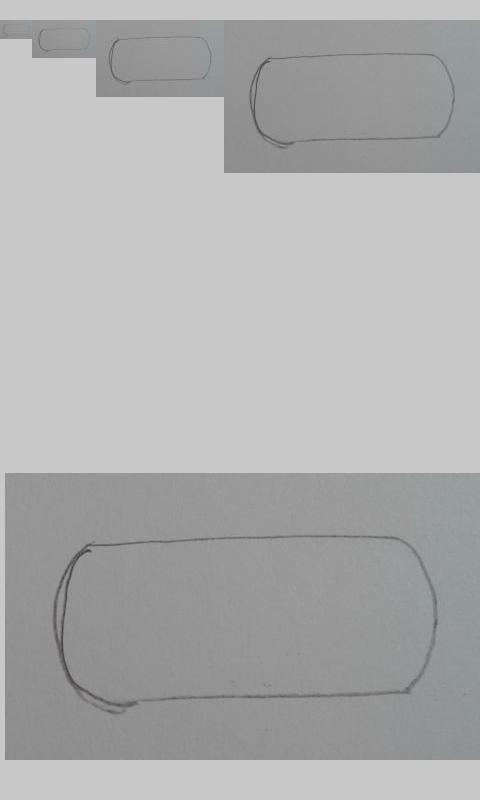chip: (52, 534, 438, 712), (249, 53, 457, 149), (108, 36, 213, 85), (38, 27, 92, 52), (2, 23, 31, 37)
